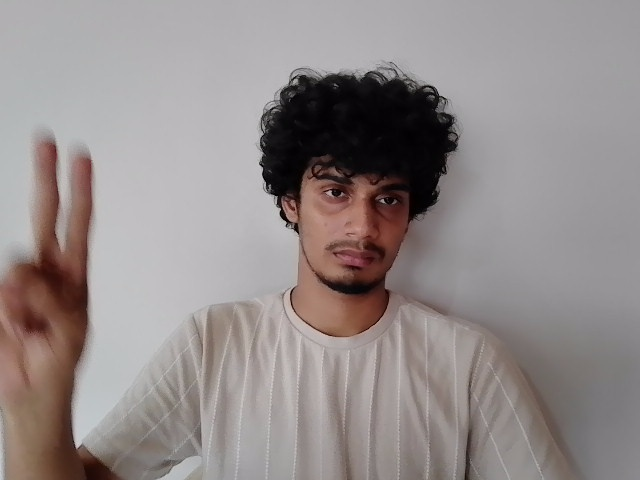travel: (1, 130, 103, 400)
